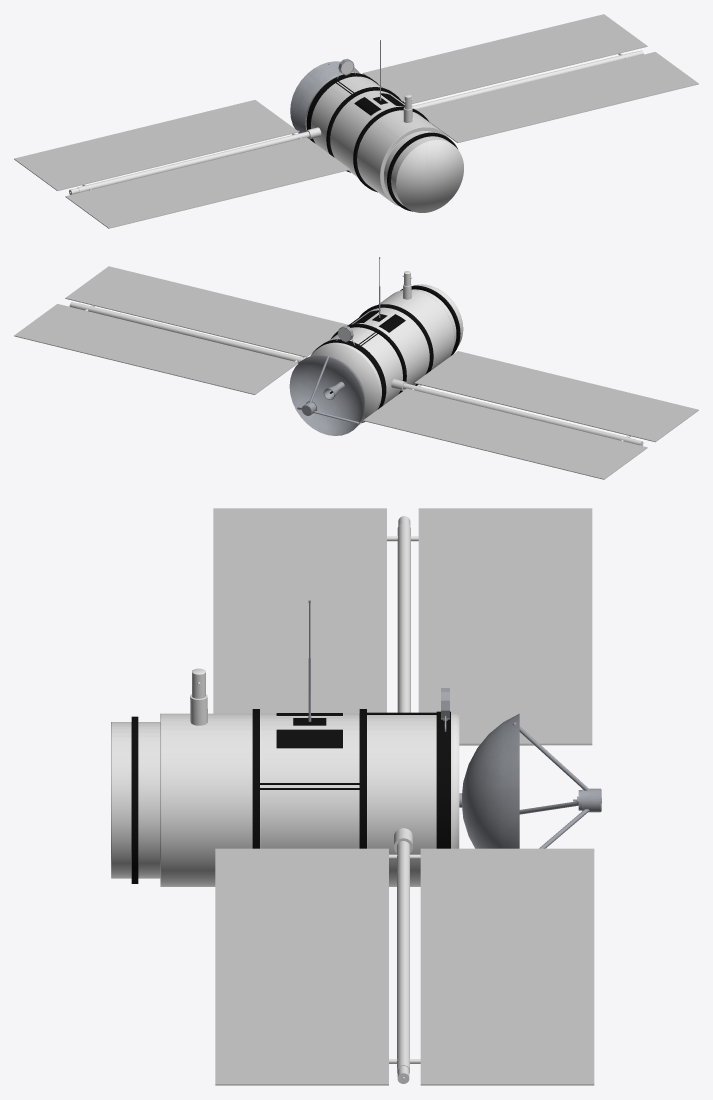
File: satalite.fbx
3 renders of one model, top to bottom at view 1: azimuth 30°, elevation 25°; view 2: azimuth 150°, elevation 25°; view 3: azimuth 270°, elevation 25°, orthographic. The views are drawn at different scales.
Parts seen in each view (by area): view 1: panel1, panel2, body; view 2: panel1, panel2, body; view 3: panel2, panel1, body.
Part boxes in pixels (bbox=[...]): panel1: bbox=[14, 100, 350, 228]; panel2: bbox=[362, 14, 698, 142]; body: bbox=[290, 40, 463, 212]; panel1: bbox=[363, 351, 698, 479]; panel2: bbox=[14, 266, 348, 394]; body: bbox=[289, 257, 463, 435]; panel2: bbox=[215, 828, 594, 1085]; panel1: bbox=[213, 508, 592, 745]; body: bbox=[111, 600, 601, 886].
Size of the model in its own units: 1568 by 382 by 565.
